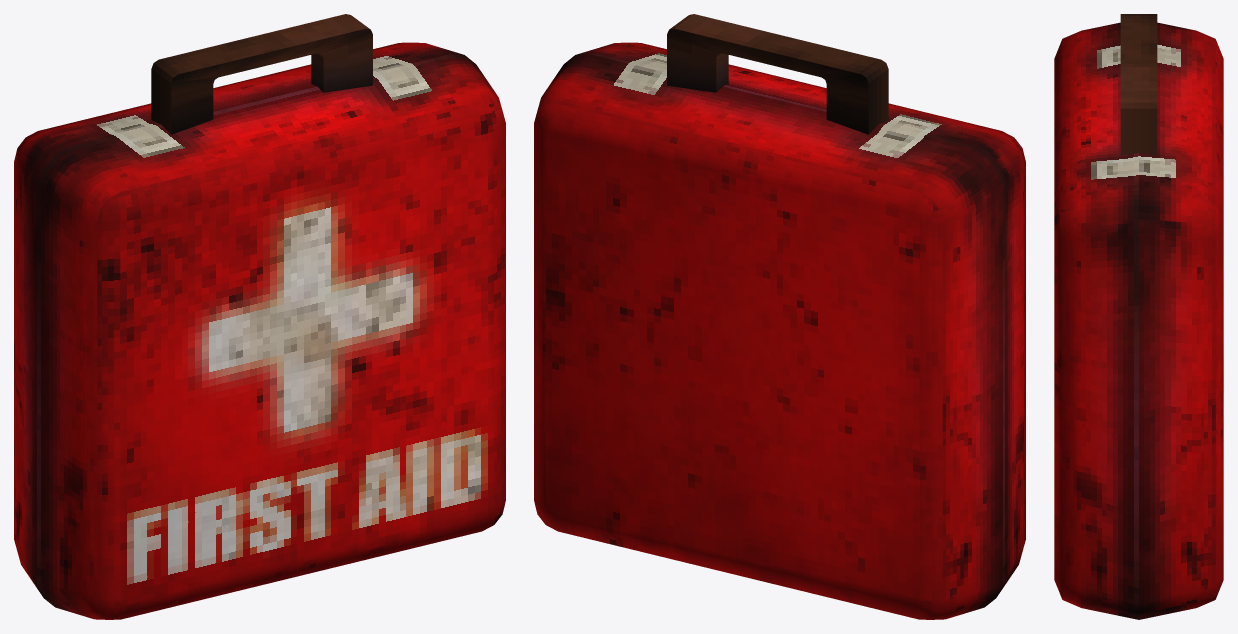
Rendered from FirstAidKit.glb.
3 renders of one model, left to right at view 1: azimuth 30°, elevation 25°; view 2: azimuth 150°, elevation 25°; view 3: azimuth 270°, elevation 25°, orthographic. The views are drawn at different scales.
Parts seen in each view (by area): view 1: FirstAidKit.col.001; view 2: FirstAidKit.col.001; view 3: FirstAidKit.col.001.
Boxes of the visible parts, x1=… form: FirstAidKit.col.001: x1=14, y1=14, x2=505, y2=619; FirstAidKit.col.001: x1=534, y1=14, x2=1025, y2=619; FirstAidKit.col.001: x1=1054, y1=14, x2=1223, y2=619.
Size of the model in its own units: 2.1 by 2.33 by 0.7505.
1 material, 1 textured.
